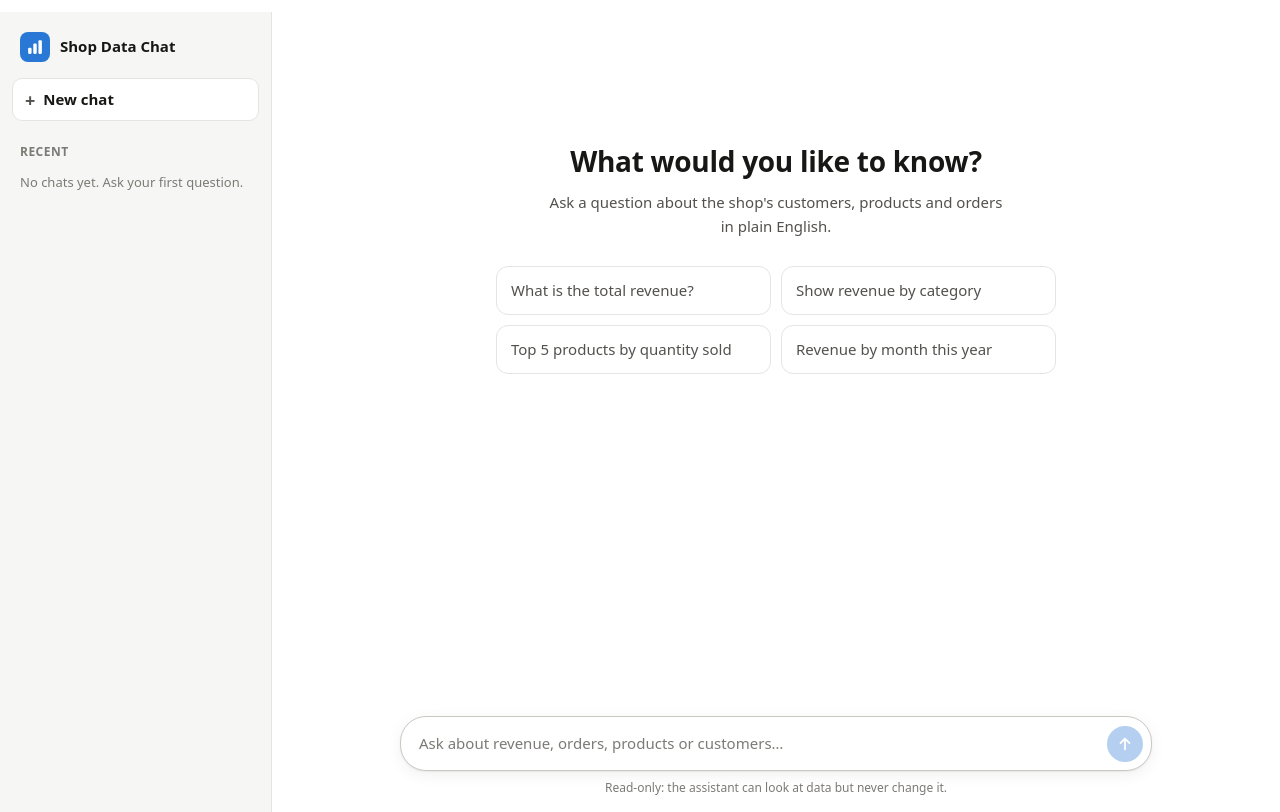
it: the chat page › notes how many rows are hidden when there are more than 20
Step 1. Type "list products" into the text box named "Ask a question" → point(759, 744), box x1=419 y1=725 x2=1099 y2=762
Then press Enter
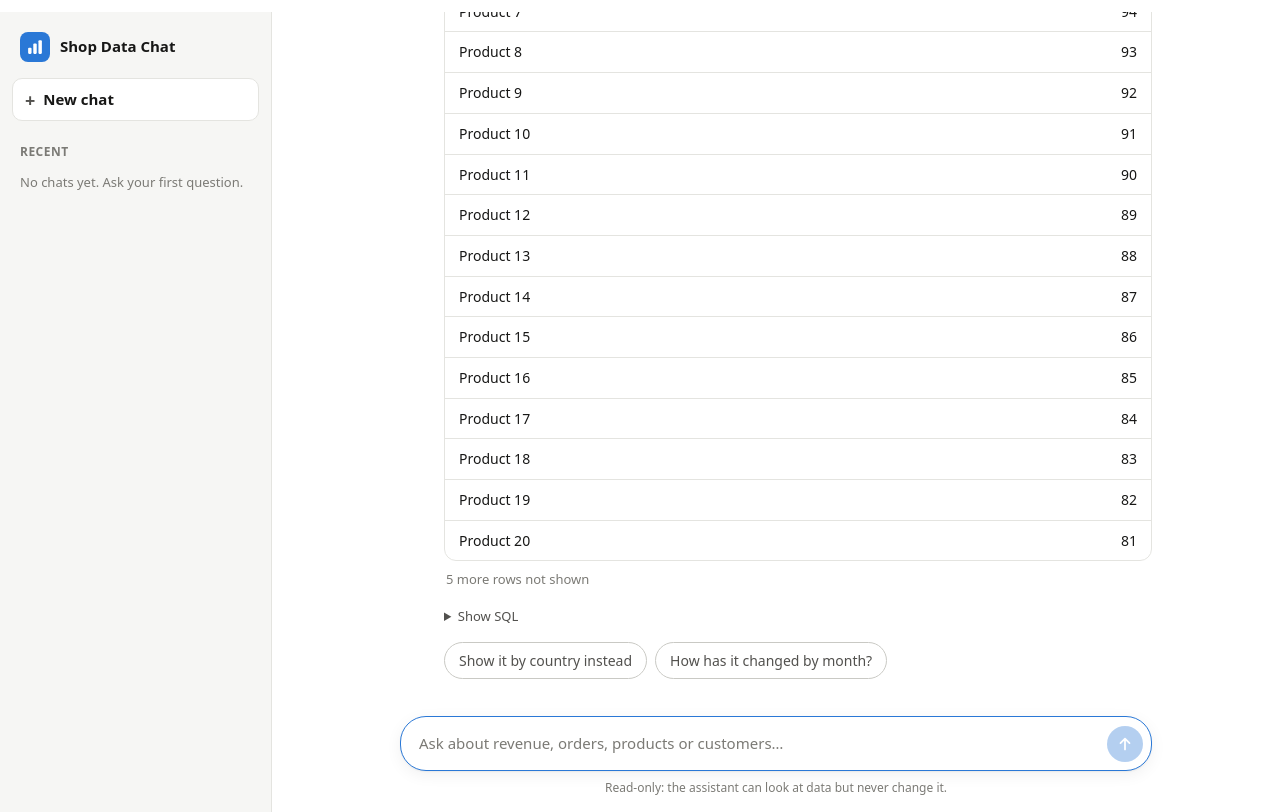
Check: the text "5 more rows not shown" is shown, box x1=446 y1=570 x2=589 y2=588
Check: the text "Product 20" is shown, box x1=445 y1=520 x2=885 y2=560
